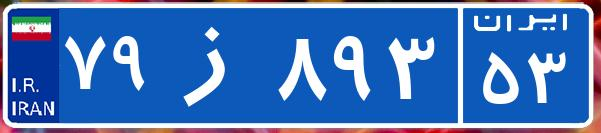3: (385, 28, 445, 110), (525, 38, 570, 115)
5: (475, 38, 525, 113)
7: (57, 26, 110, 107)
8: (273, 28, 330, 110)
9: (330, 28, 385, 110), (110, 28, 158, 105)
ز: (158, 15, 273, 115)
